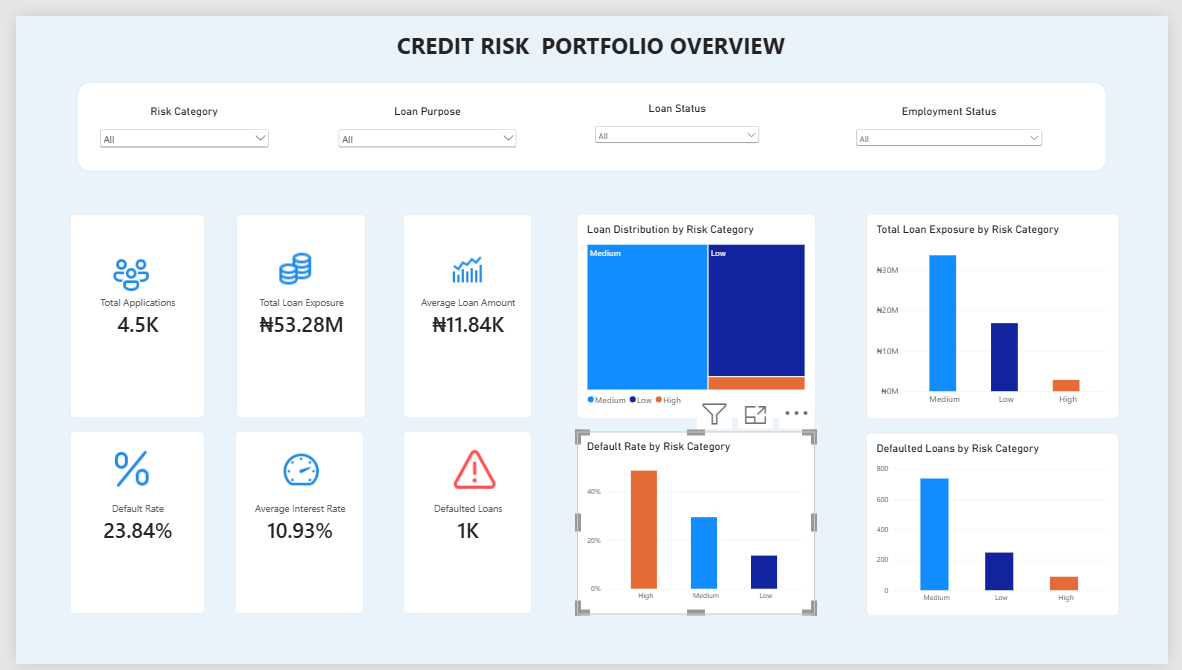

The page's visual inventory and layout, read from the dashboard file:
{"tool":"powerbi","page":{"name":"Portfolio Overview","canvas":[1920,1080],"ordinal":0},"visuals":[{"type":"shape","box":[102.5,110,1714.8,149.9],"z":0},{"type":"cardVisual","fields":{"Data":["CountNonNull(analytics vw_CreditRiskAnalysis.customer_id)"]},"box":[90,330,224.9,340.7],"z":1000},{"type":"cardVisual","fields":{"Data":["Sum(analytics vw_CreditRiskAnalysis.loan_amount)"]},"box":[367.5,330,215.8,340.7],"z":2000},{"type":"cardVisual","fields":{"Data":["analytics vw_CreditRiskAnalysis.Defaulted Loans"]},"box":[645,692.5,215.8,304.4],"z":3000},{"type":"cardVisual","fields":{"Data":["analytics vw_CreditRiskAnalysis.Default Rate"]},"box":[90,692.5,224.9,304.4],"z":4000},{"type":"cardVisual","fields":{"Data":["analytics vw_CreditRiskAnalysis.Average Loan Amount"]},"box":[645,330,215.8,340.7],"z":5000},{"type":"cardVisual","fields":{"Data":["analytics vw_CreditRiskAnalysis.Average Interest Rate"]},"box":[365,692.5,215.8,304.4],"z":6000},{"type":"treemap","title":"Loan Distribution by Risk Category","fields":{"Group":["analytics vw_CreditRiskAnalysis.risk_category"],"Values":["CountNonNull(analytics vw_CreditRiskAnalysis.customer_id)"]},"box":[935,330,397.5,340.7],"z":7000},{"type":"clusteredColumnChart","title":"Default Rate by Risk Category","fields":{"Category":["analytics vw_CreditRiskAnalysis.risk_category"],"Y":["analytics vw_CreditRiskAnalysis.Default Rate"]},"box":[935,692.5,397.5,304.4],"z":8000},{"type":"clusteredColumnChart","title":"Total Loan Exposure by Risk Category","fields":{"Category":["analytics vw_CreditRiskAnalysis.risk_category"],"Y":["Sum(analytics vw_CreditRiskAnalysis.loan_amount)"]},"box":[1417.5,330,420.2,340.7],"z":9000},{"type":"clusteredColumnChart","title":"Defaulted Loans by Risk Category","fields":{"Category":["analytics vw_CreditRiskAnalysis.risk_category"],"Y":["analytics vw_CreditRiskAnalysis.Defaulted Loans"]},"box":[1417.5,695,420.2,304.4],"z":10000},{"type":"slicer","title":"Risk Category","fields":{"Values":["analytics vw_CreditRiskAnalysis.risk_category"]},"box":[134,147.6,290.7,79.5],"z":11000},{"type":"slicer","title":"Loan Purpose","fields":{"Values":["analytics vw_CreditRiskAnalysis.loan_purpose"]},"box":[532.5,147.5,306.6,79.5],"z":12000},{"type":"slicer","title":"Loan Status","fields":{"Values":["analytics vw_CreditRiskAnalysis.loan_status"]},"box":[960,142.5,283.9,79.5],"z":13000},{"type":"slicer","title":"Employment Status","fields":{"Values":["analytics vw_CreditRiskAnalysis.employment_status"]},"box":[1395,147.5,320.1,77.3],"z":14000},{"type":"textbox","box":[586,22.7,747.3,61.3],"z":16000},{"type":"image","box":[150,395,84,70.4],"z":17000},{"type":"image","box":[722.5,380,59.1,84],"z":18000},{"type":"image","box":[150,715,86.3,79.5],"z":19000},{"type":"image","box":[440,712.5,70.4,86.3],"z":20000},{"type":"image","box":[722.5,712.5,83.8,88.1],"z":21000},{"type":"image","box":[430,372.5,70.4,97.7],"z":22000}]}

Visuals, with their boxes in screenshot pixels (x1, y1, x2, y2), scaled from the page's 1920x1080 canvas onto the 1182x670 screenshot:
shape: crop(63, 68, 1119, 161)
cardVisual - CountNonNull(analytics vw_CreditRiskAnalysis.customer_id): crop(55, 205, 194, 416)
cardVisual - Sum(analytics vw_CreditRiskAnalysis.loan_amount): crop(226, 205, 359, 416)
cardVisual - analytics vw_CreditRiskAnalysis.Defaulted Loans: crop(397, 430, 530, 618)
cardVisual - analytics vw_CreditRiskAnalysis.Default Rate: crop(55, 430, 194, 618)
cardVisual - analytics vw_CreditRiskAnalysis.Average Loan Amount: crop(397, 205, 530, 416)
cardVisual - analytics vw_CreditRiskAnalysis.Average Interest Rate: crop(225, 430, 358, 618)
"Loan Distribution by Risk Category" treemap: crop(576, 205, 820, 416)
"Default Rate by Risk Category" clusteredColumnChart: crop(576, 430, 820, 618)
"Total Loan Exposure by Risk Category" clusteredColumnChart: crop(873, 205, 1131, 416)
"Defaulted Loans by Risk Category" clusteredColumnChart: crop(873, 431, 1131, 620)
"Risk Category" slicer: crop(82, 92, 261, 141)
"Loan Purpose" slicer: crop(328, 92, 517, 141)
"Loan Status" slicer: crop(591, 88, 766, 138)
"Employment Status" slicer: crop(859, 92, 1056, 139)
textbox: crop(361, 14, 821, 52)
image: crop(92, 245, 144, 289)
image: crop(445, 236, 481, 288)
image: crop(92, 444, 145, 493)
image: crop(271, 442, 314, 496)
image: crop(445, 442, 496, 497)
image: crop(265, 231, 308, 292)
